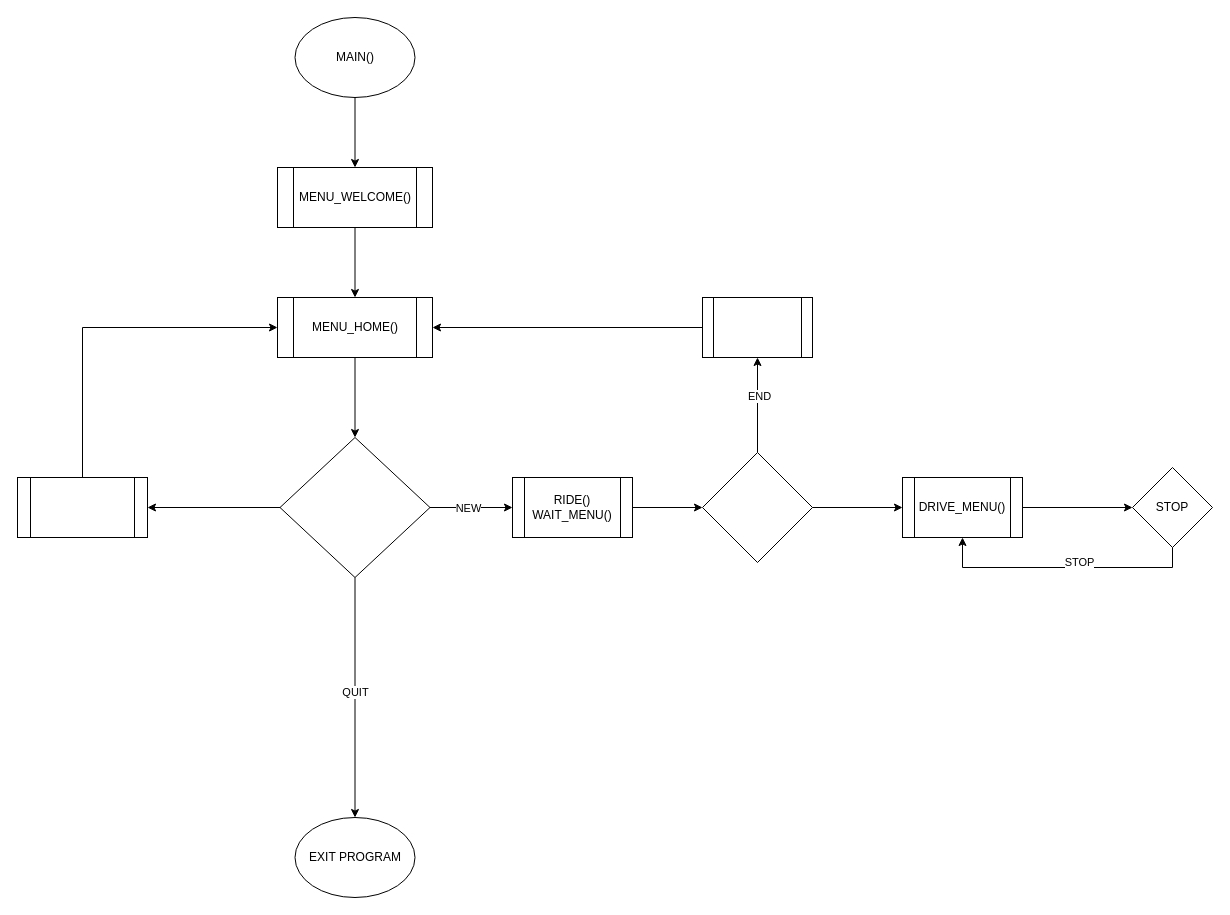
This 1230x915 diagram has some shape labels left out. Each missing label, with the centre of its shape:
"DRIVE | END" belongs at point (757, 507).
"MENU_SETUP()" belongs at point (82, 507).
"NEW |SETUP | QUIT" belongs at point (354, 507).
"TOTAL_FARE() SAVE RIDE()" belongs at point (757, 327).
